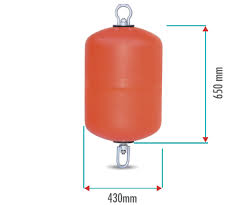buoy: (85, 27, 162, 143)
